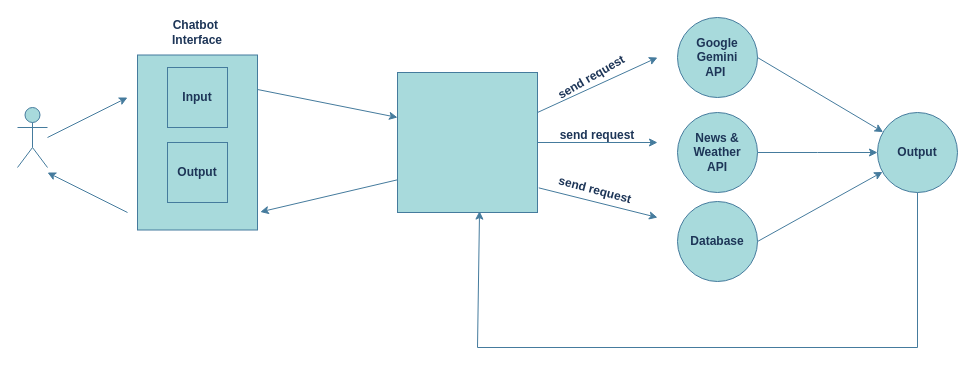
The diagram is 975 pixels wide and 373 high, and some of its shapes have lost their labels. The shapes that lost their labels are listed below. From the top down, each one's centre as x and y in pixels, then its label:
(x=32, y=137): User
(x=467, y=142): Chatbot System
